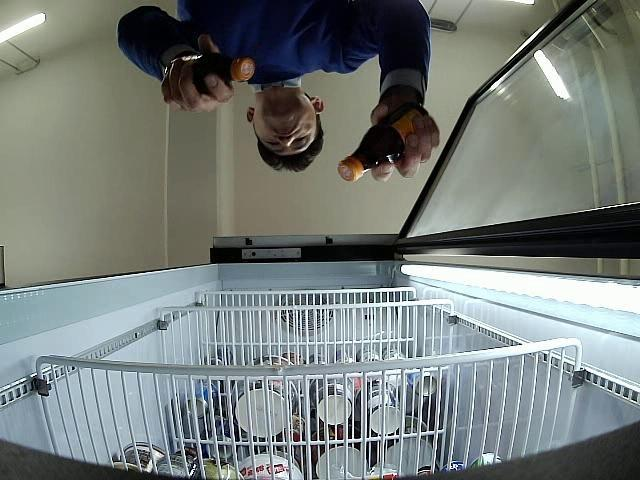17_vita500: (340, 106, 428, 182), (164, 60, 254, 104)
